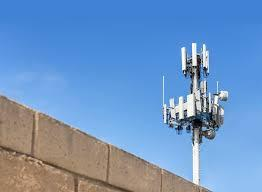Microwave Antenna: (204, 128, 216, 142)
antenna: (189, 36, 199, 69), (185, 91, 194, 120), (167, 99, 177, 120), (180, 45, 188, 71), (200, 42, 207, 68), (177, 95, 184, 121)
